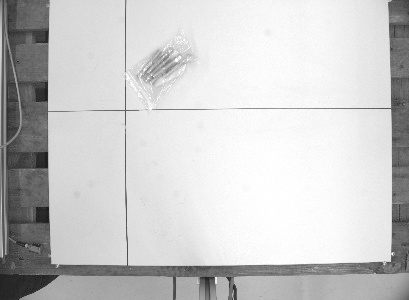t2: (118, 24, 206, 112)
